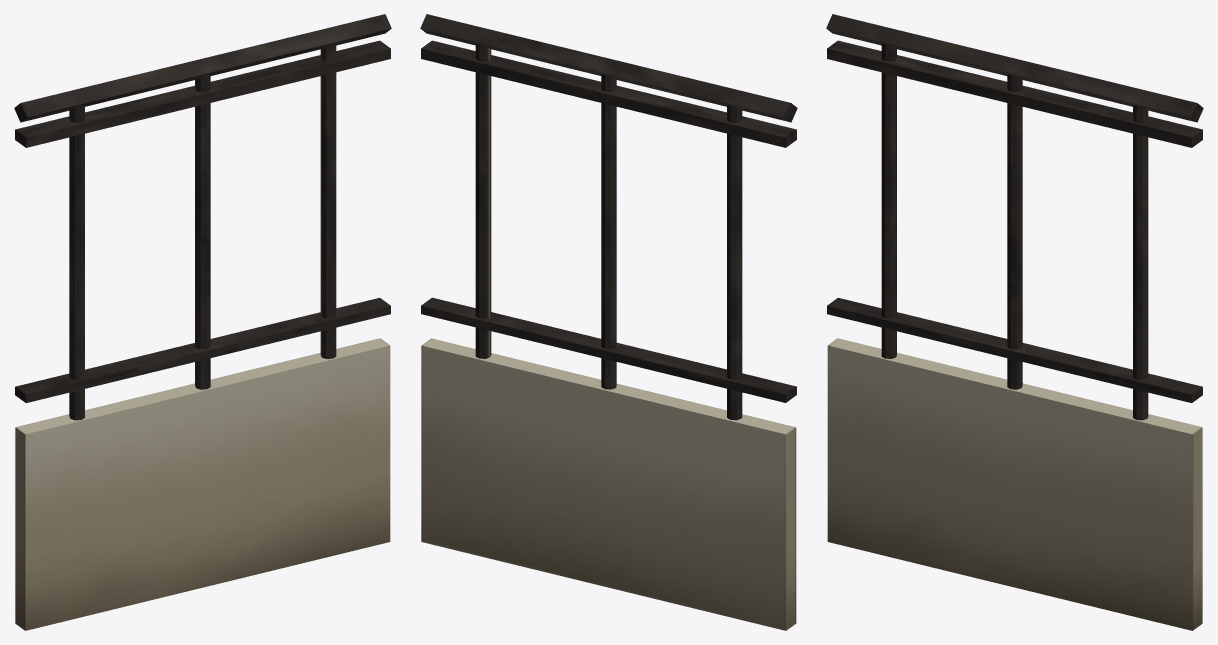
File: Prison_Railing_01.fbx
3 views of the same model, side by side, from view 1: azimuth 30°, elevation 25°; view 2: azimuth 150°, elevation 25°; view 3: azimuth 330°, elevation 25° (orthographic).
Visible parts, largest first — view 1: Cube.001; view 2: Cube.001; view 3: Cube.001.
Boxes of the visible parts, left/top/right/bottom form: Cube.001: left=14, top=14, right=391, bottom=630; Cube.001: left=420, top=14, right=797, bottom=630; Cube.001: left=826, top=14, right=1203, bottom=630.
Size of the model in its own units: 100 by 137 by 6.04.
